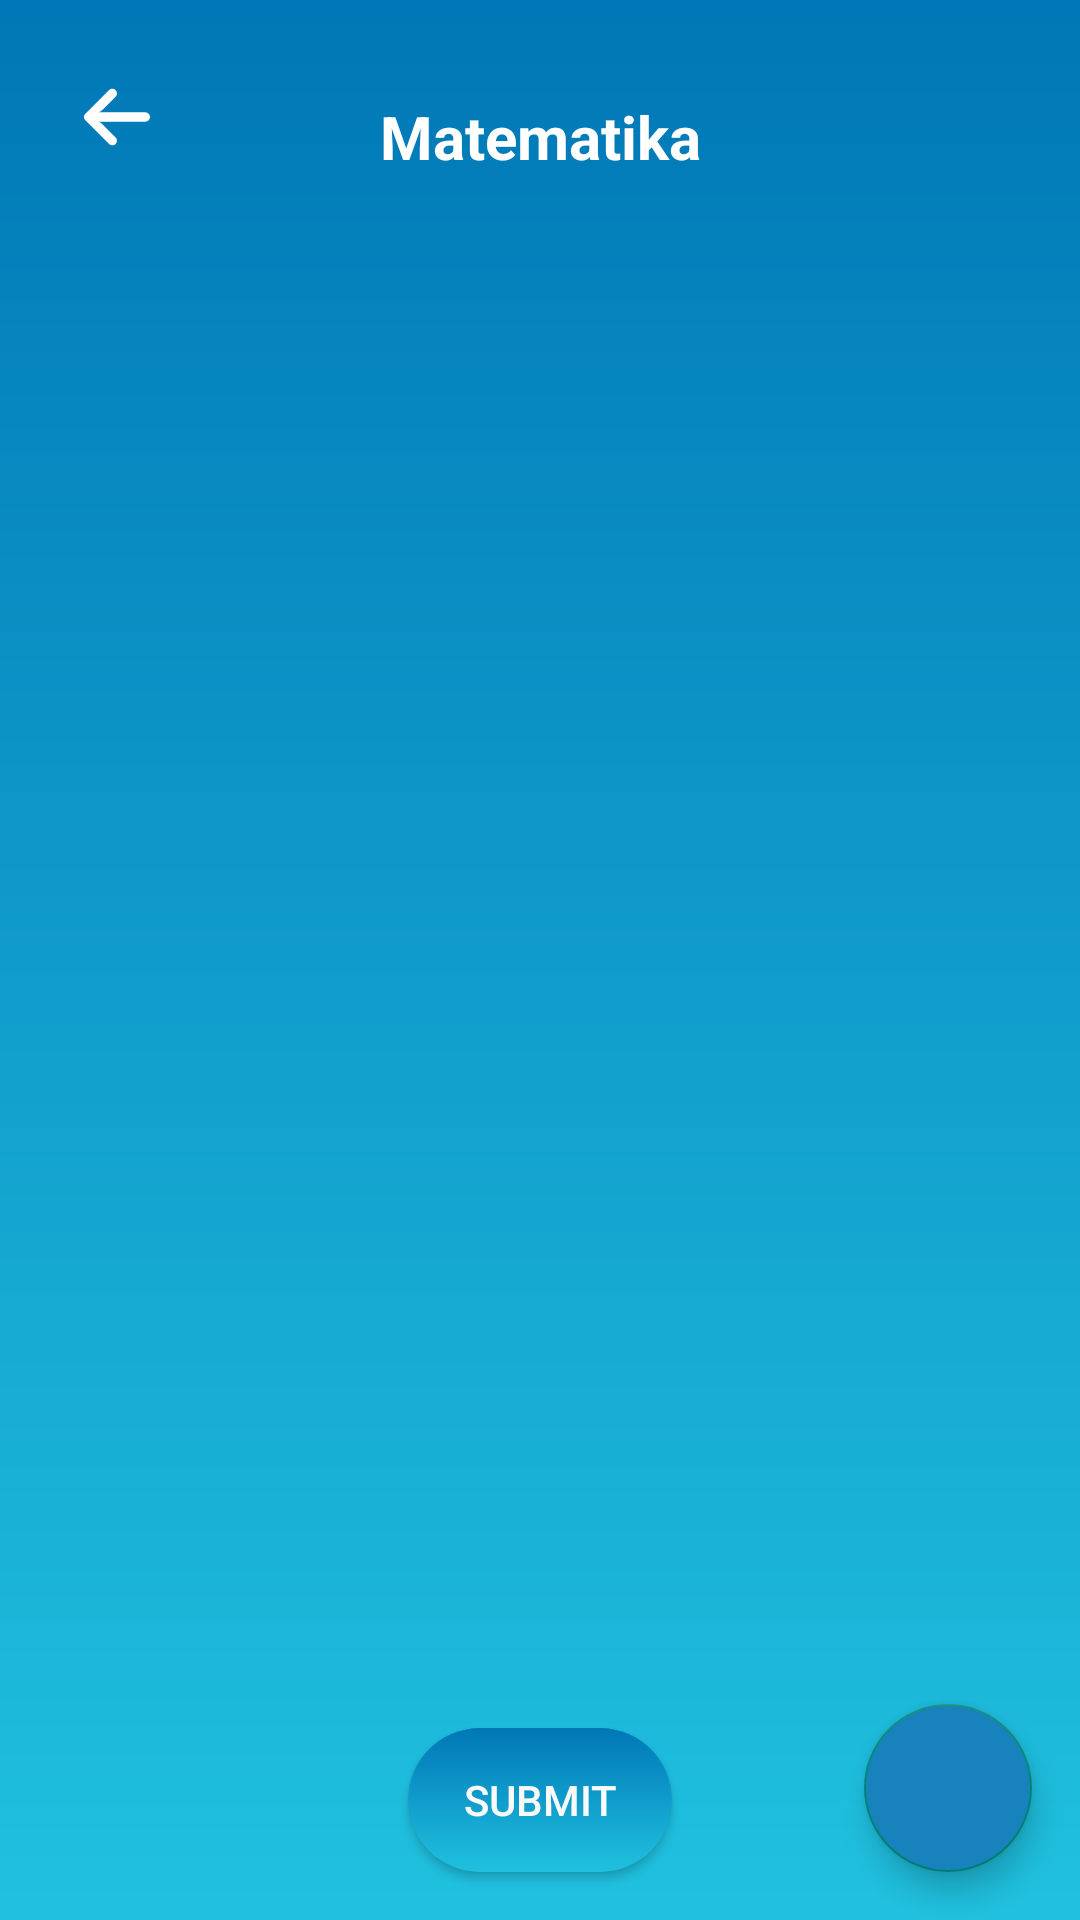

Named icons in this screenshot (1080*1920) and their bounding boxes, bbox=(x1, y1, x2, y2):
arrow: bbox=(84, 88, 150, 146)
